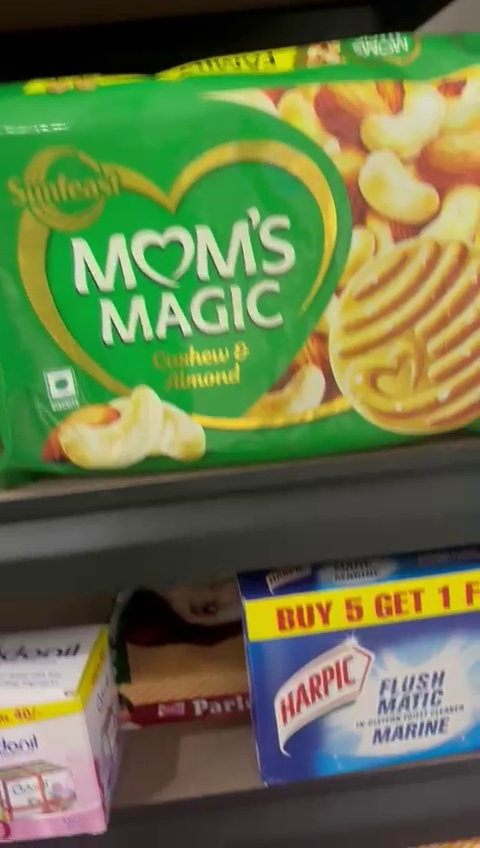Harpic: (249, 579, 480, 768)
Moms magic: (0, 77, 480, 438)
